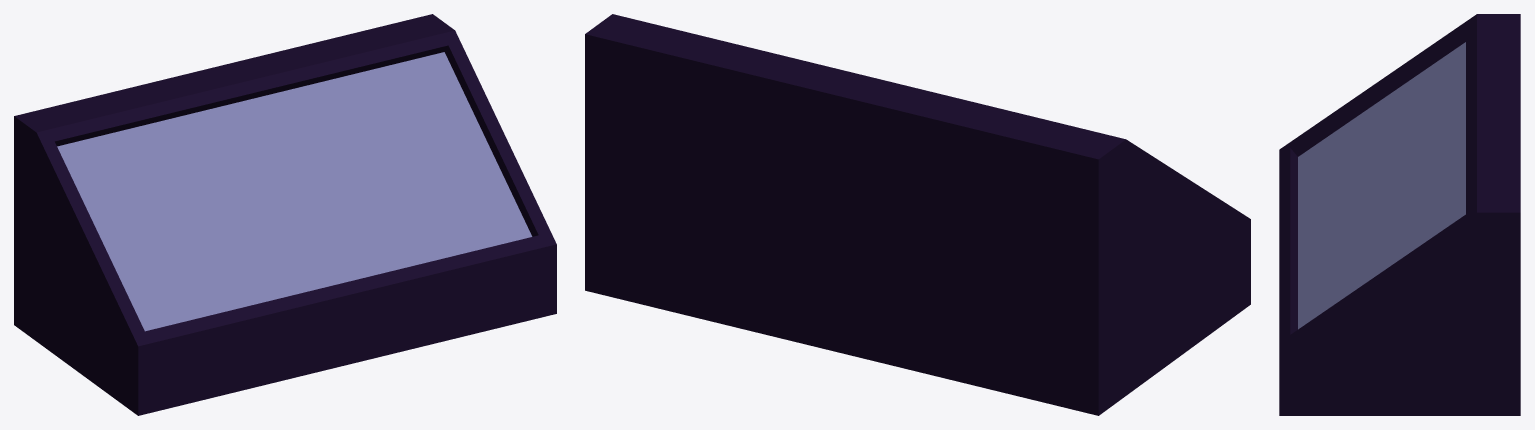
Rendered from Tribune.fbx.
3 renders of one model, left to right at view 1: azimuth 30°, elevation 25°; view 2: azimuth 150°, elevation 25°; view 3: azimuth 270°, elevation 25°, orthographic. The views are drawn at different scales.
Parts seen in each view (by area): view 1: Cube; view 2: Cube; view 3: Cube.
Boxes of the visible parts, box(x1,y1,x2,y2) form: Cube: box(14, 14, 556, 415); Cube: box(585, 14, 1250, 415); Cube: box(1279, 14, 1520, 415).
Size of the model in its own units: 390 by 186 by 200.
